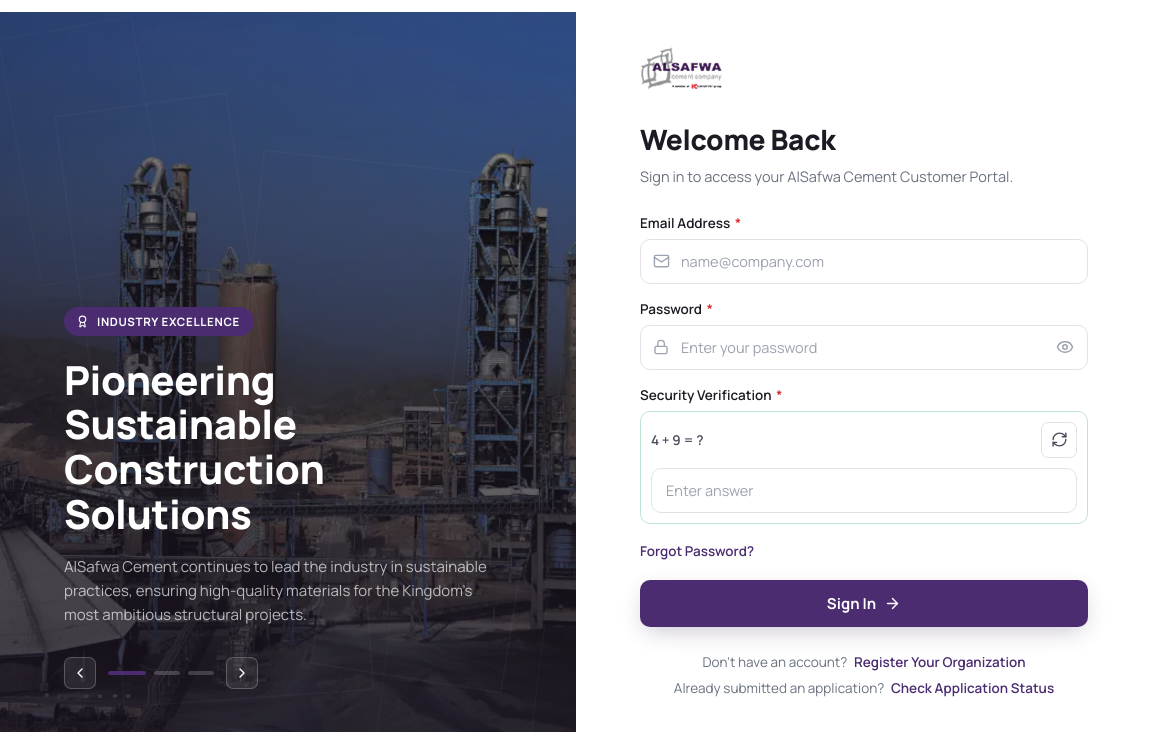
authentication routes › shows a generic customer login error for invalid credentials on /login
This screenshot has width=1152, height=732.
Type "wrong@example.com" into the field labelled "Email Address *" at point(864, 261), box top-left (640, 239), bottom-right (1088, 284)
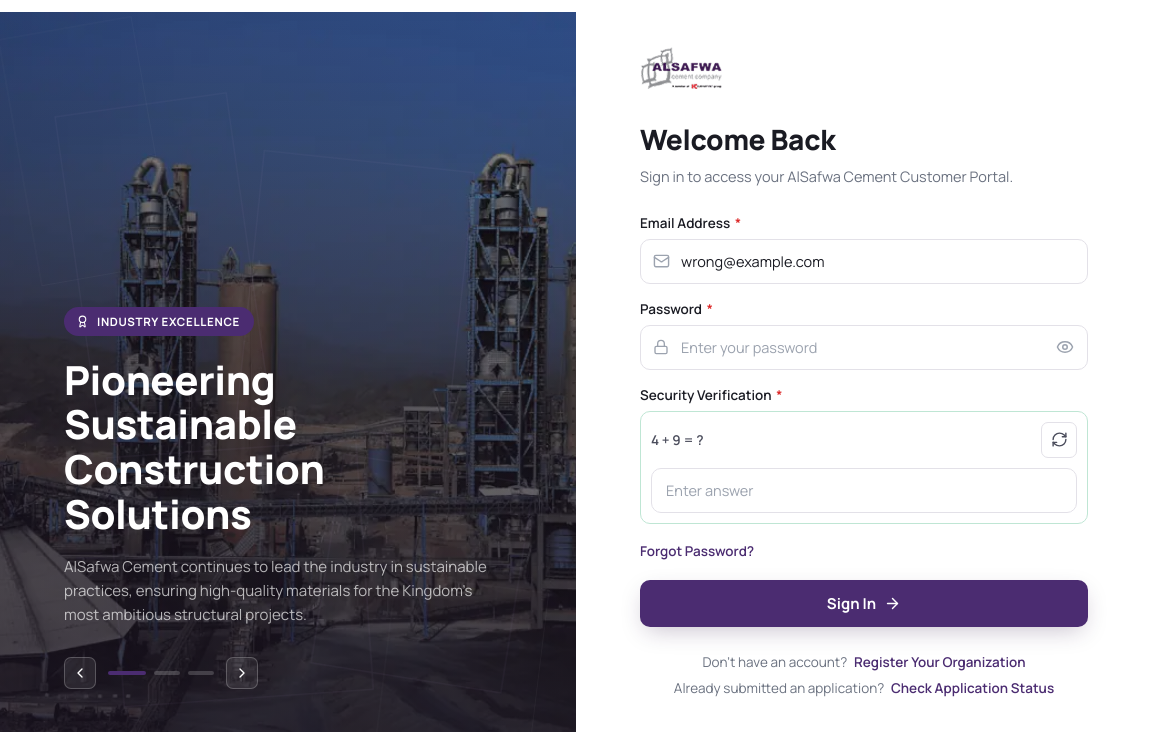
Type "wrong-password" into the password field labelled "Password *" at point(864, 347), box top-left (640, 325), bottom-right (1088, 370)
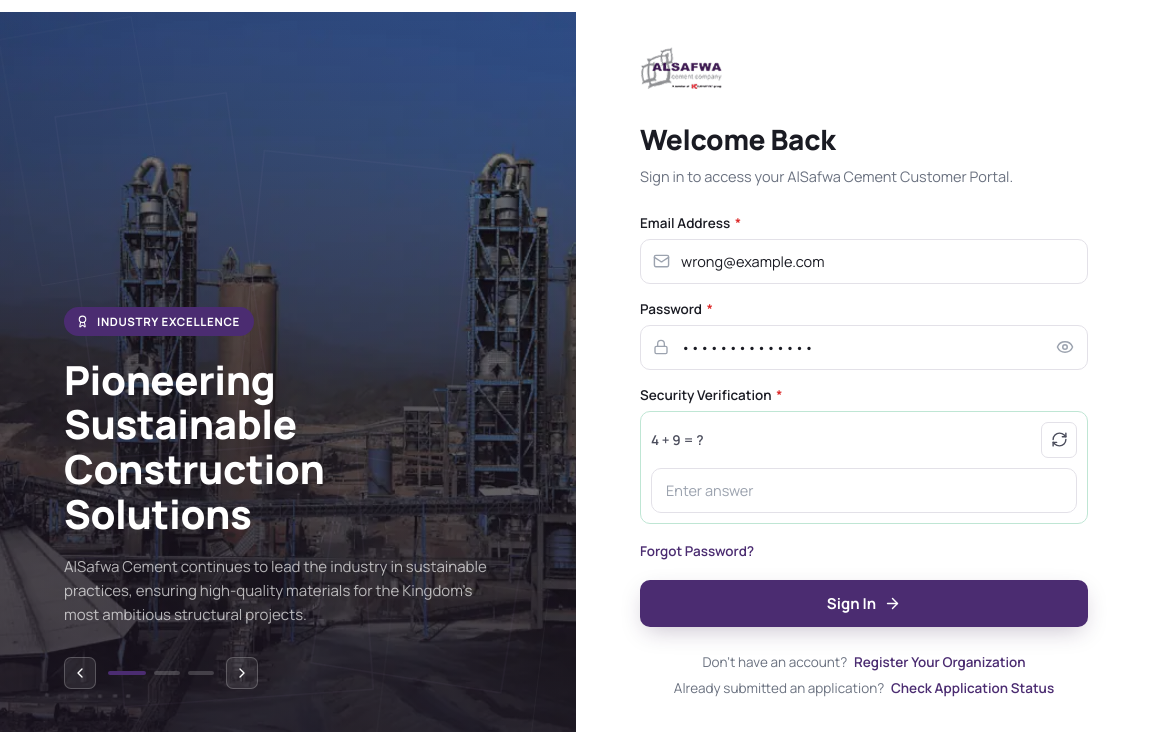
Type "13" into the field labelled "Security Verification *" at point(864, 490), box top-left (651, 468), bottom-right (1077, 513)
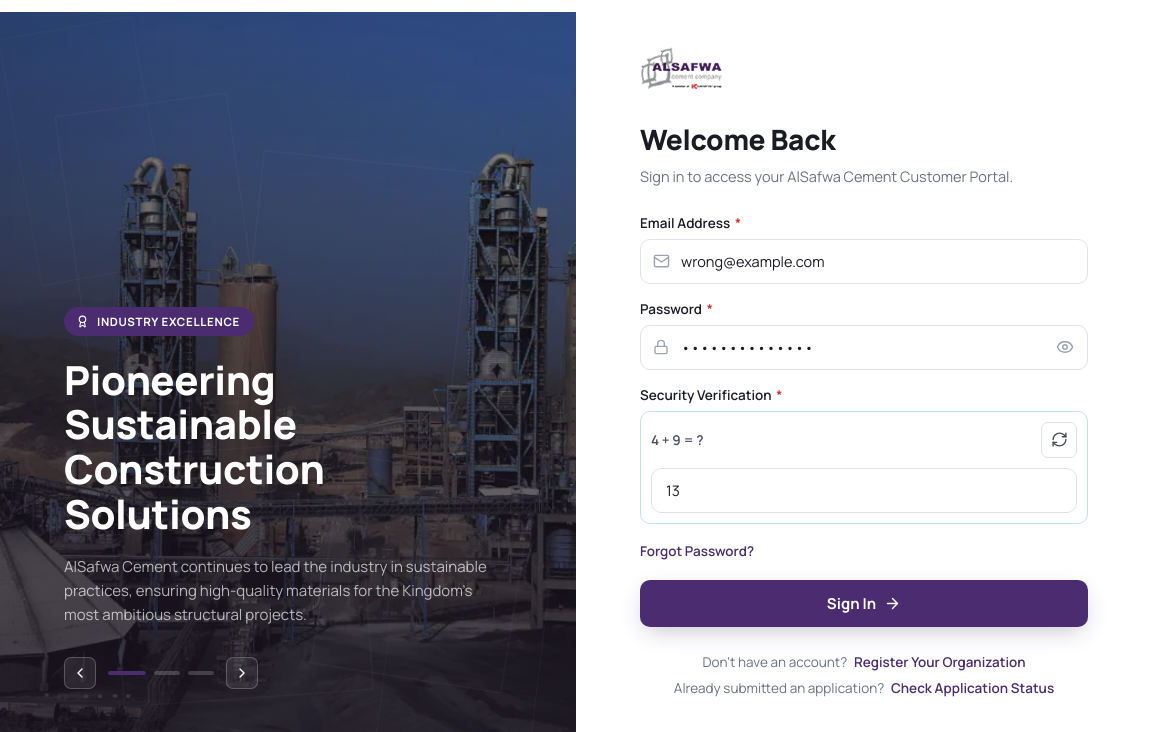
Click the button "Sign In" at point(864, 603), box top-left (640, 580), bottom-right (1088, 627)
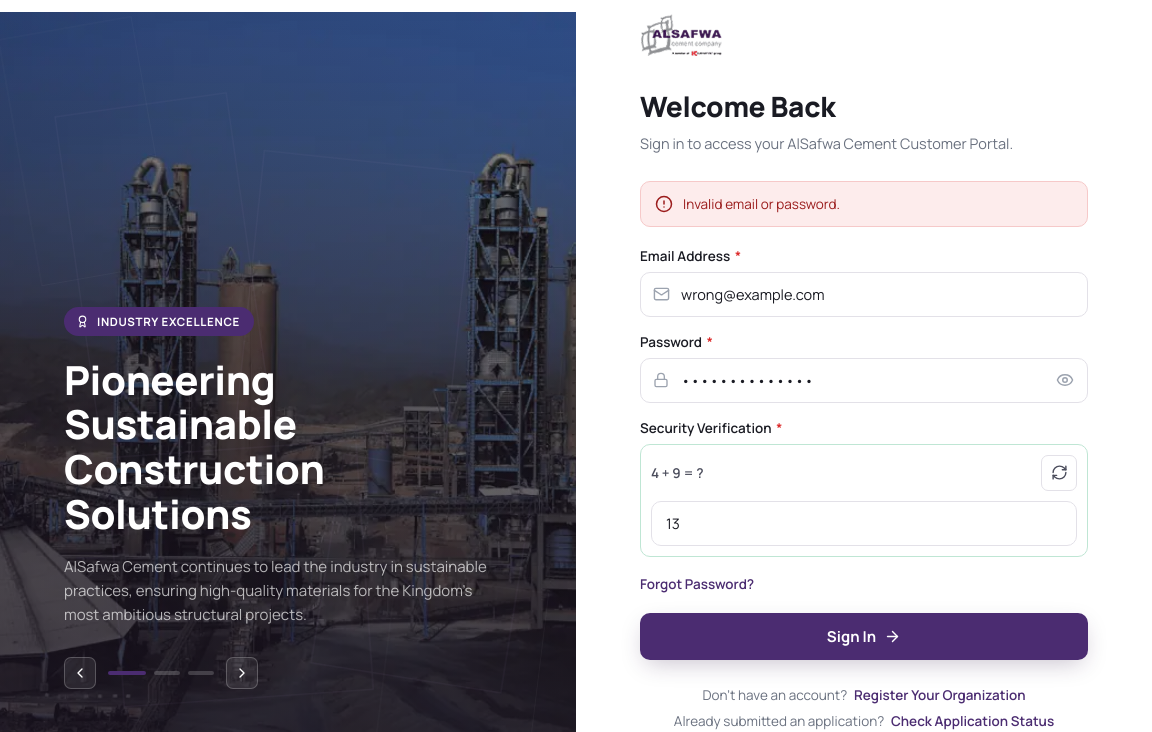
Check: the text "Invalid email or password." is shown, box top-left (683, 194), bottom-right (840, 214)
